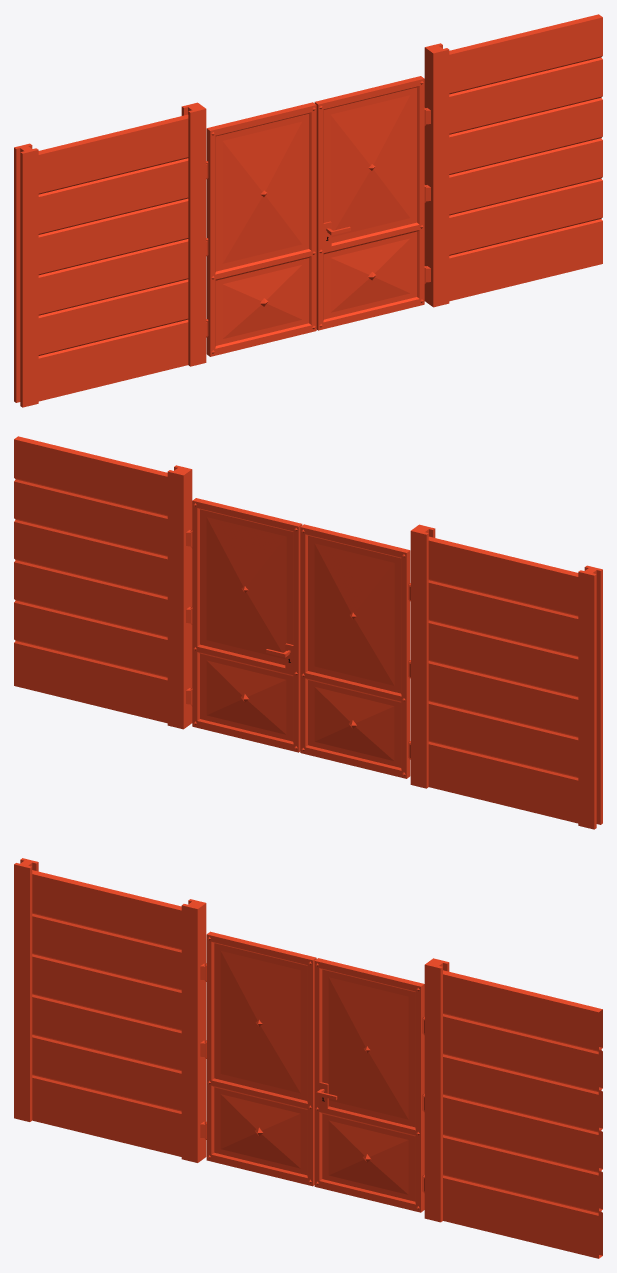
The model's file is SM_Fence_Industrial_Gate_City.fbx.
3 views of the same model, one above another, from view 1: azimuth 30°, elevation 25°; view 2: azimuth 150°, elevation 25°; view 3: azimuth 330°, elevation 25° (orthographic).
Visible parts, largest first — view 1: SM_Fence_Industrial_Gate_City_Base, SM_Fence_Industrial_Gate_City_Door_R, SM_Fence_Industrial_Gate_City_Door_L; view 2: SM_Fence_Industrial_Gate_City_Base, SM_Fence_Industrial_Gate_City_Door_R, SM_Fence_Industrial_Gate_City_Door_L; view 3: SM_Fence_Industrial_Gate_City_Base, SM_Fence_Industrial_Gate_City_Door_L, SM_Fence_Industrial_Gate_City_Door_R.
Part boxes in pixels (bbox=[...]): SM_Fence_Industrial_Gate_City_Base: bbox=[14, 14, 602, 407]; SM_Fence_Industrial_Gate_City_Door_R: bbox=[206, 102, 316, 356]; SM_Fence_Industrial_Gate_City_Door_L: bbox=[314, 76, 426, 330]; SM_Fence_Industrial_Gate_City_Base: bbox=[14, 436, 602, 829]; SM_Fence_Industrial_Gate_City_Door_R: bbox=[300, 524, 410, 778]; SM_Fence_Industrial_Gate_City_Door_L: bbox=[190, 498, 302, 752]; SM_Fence_Industrial_Gate_City_Base: bbox=[14, 858, 602, 1258]; SM_Fence_Industrial_Gate_City_Door_L: bbox=[314, 958, 424, 1212]; SM_Fence_Industrial_Gate_City_Door_R: bbox=[204, 931, 316, 1186].
Size of the model in its own units: 5.03 by 2.1 by 0.2247.
